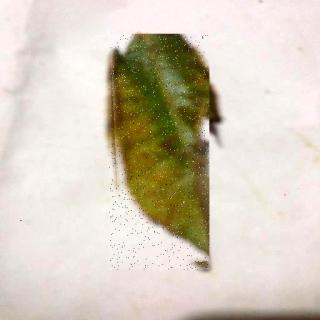Red Leaf Spot: (111, 36, 211, 272)
